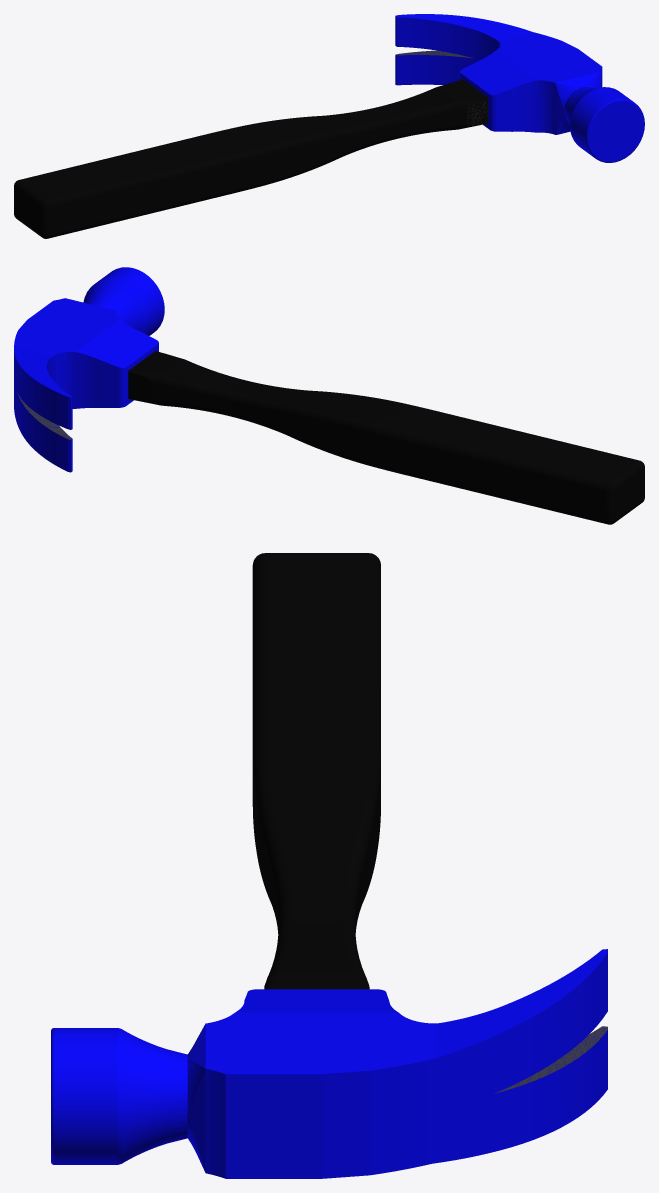
File: hammer_01_origin_gt_5.dae
The picture shows the model from 3 angles, top to bottom: view 1: azimuth 30°, elevation 25°; view 2: azimuth 150°, elevation 25°; view 3: azimuth 270°, elevation 25°; orthographic projection. The views are drawn at different scales.
Parts seen in each view (by area): view 1: group_0 (×2), group_1; view 2: group_0, group_1 (×2); view 3: group_1 (×2), group_0.
Boxes of the visible parts, x1,y1,x2,y2 form: group_0 (×2): [14, 79, 487, 238]; group_1: [395, 14, 644, 162]; group_0: [128, 351, 644, 524]; group_1 (×2): [14, 267, 164, 472]; group_1 (×2): [51, 949, 607, 1178]; group_0: [252, 553, 380, 989].
Size of the model in its own units: 13.3 by 5.81 by 1.58.
